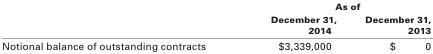table: (0, 0, 430, 50)
table column: (0, 0, 237, 50), (237, 0, 350, 50), (350, 0, 430, 50)
table column header: (0, 0, 430, 37)
table row: (0, 12, 430, 37), (0, 37, 430, 50), (0, 0, 430, 12)
table spanning cell: (237, 0, 430, 12)
